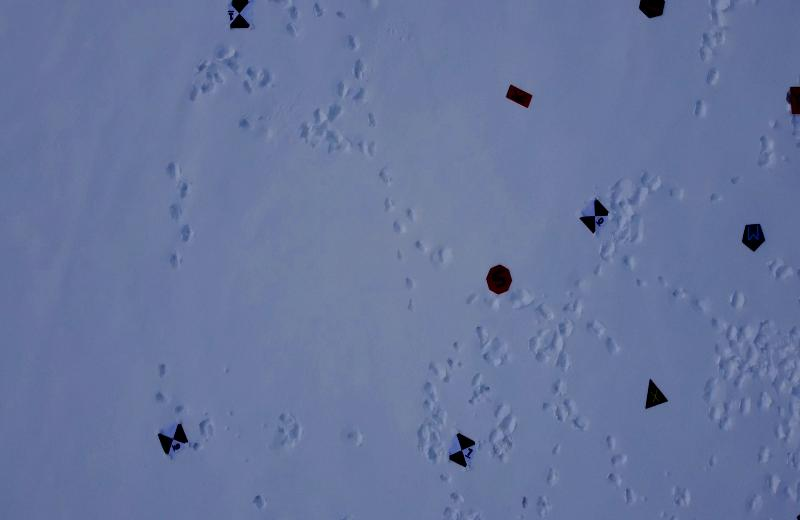Hexagon: (638, 0, 665, 26)
Octagon: (486, 262, 517, 297)
Pentagon: (740, 224, 768, 254)
Rectangle: (504, 84, 535, 115), (788, 82, 800, 120)
Triangle: (642, 380, 670, 412)
